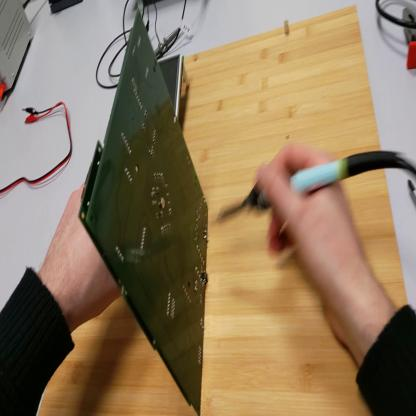hand: (259, 145, 369, 341), (45, 170, 128, 331)
low voltage board: (80, 6, 211, 416)
oscilloscope probe tip: (156, 24, 180, 56)
pliers: (403, 9, 416, 68)
power supply: (2, 2, 34, 101)
screwdriver-: (407, 176, 416, 202)
socket: (48, 1, 82, 13)
welder probe tip: (210, 153, 389, 238)
working area: (38, 1, 410, 416)
